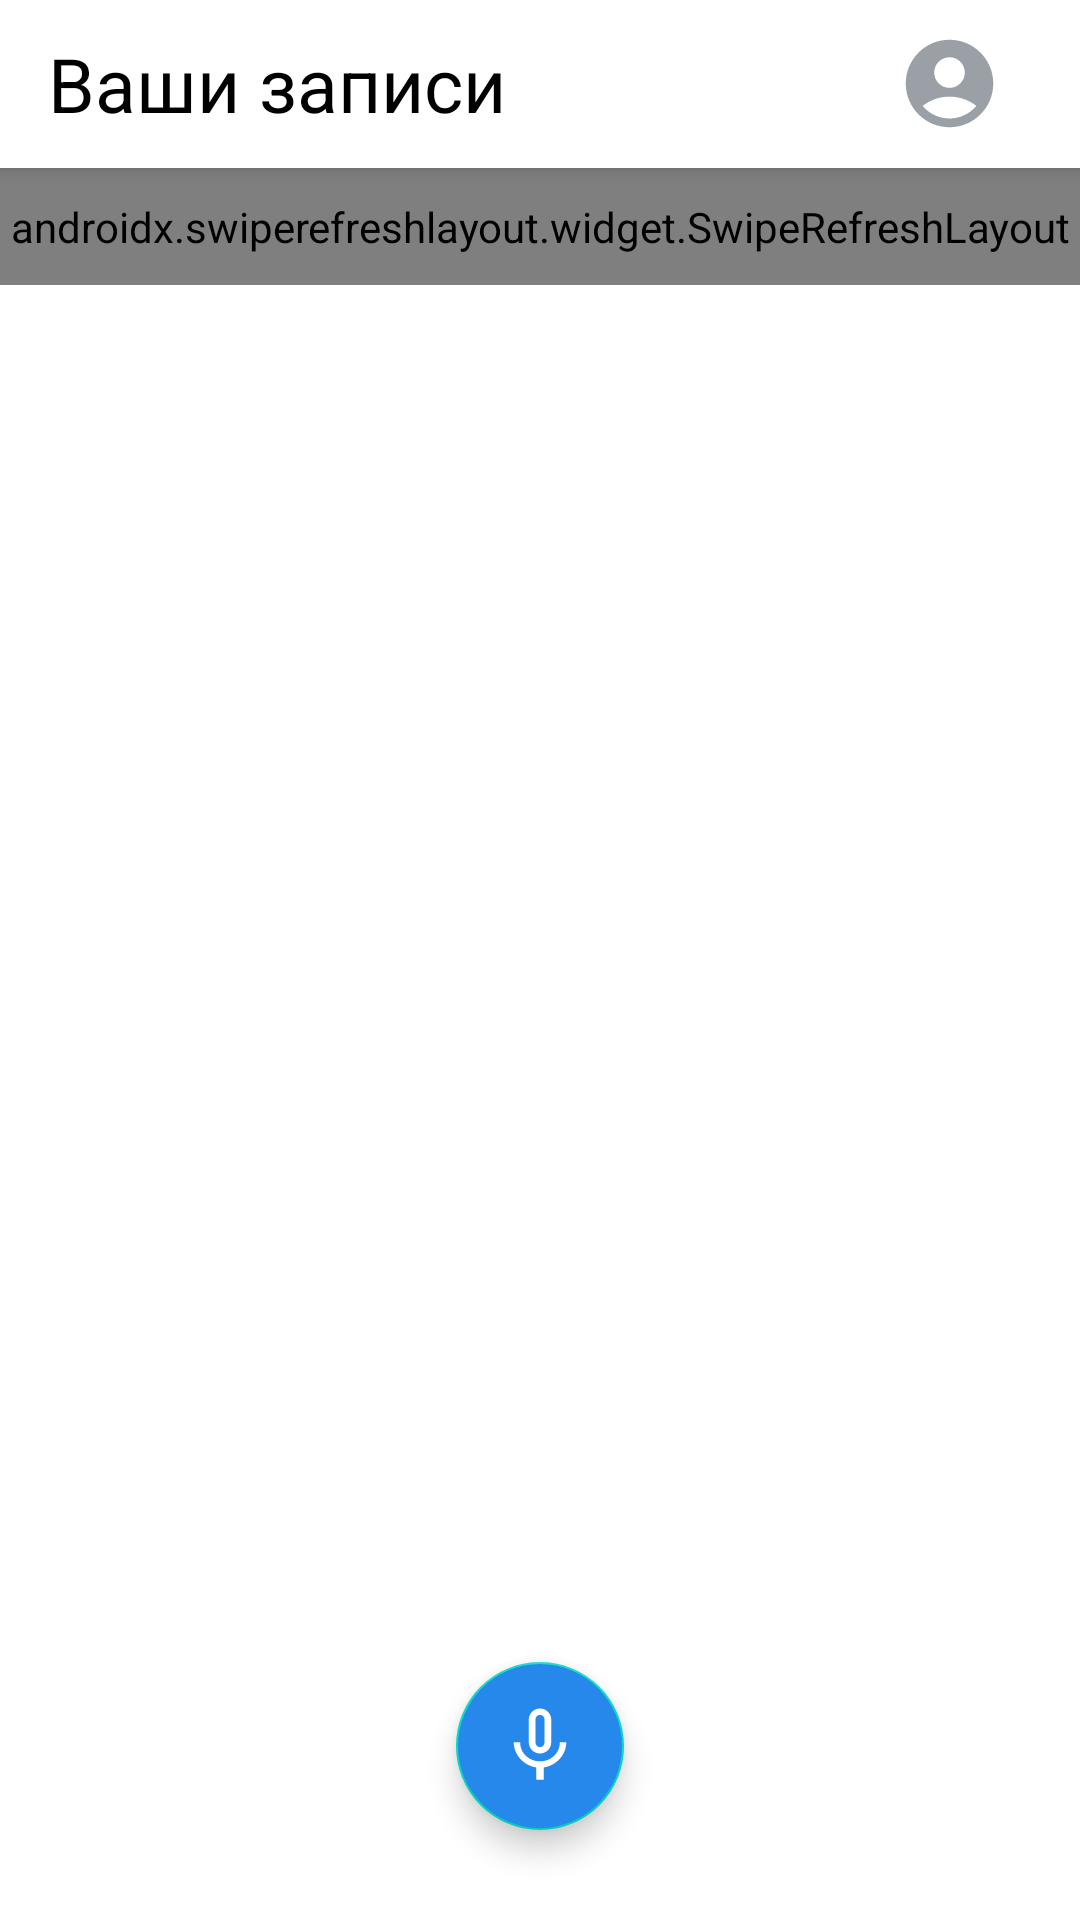

Named icons in this screenshot (1080px x 1920px) and their centers, (x,y):
guest: (949,83)
record: (540,1746)
